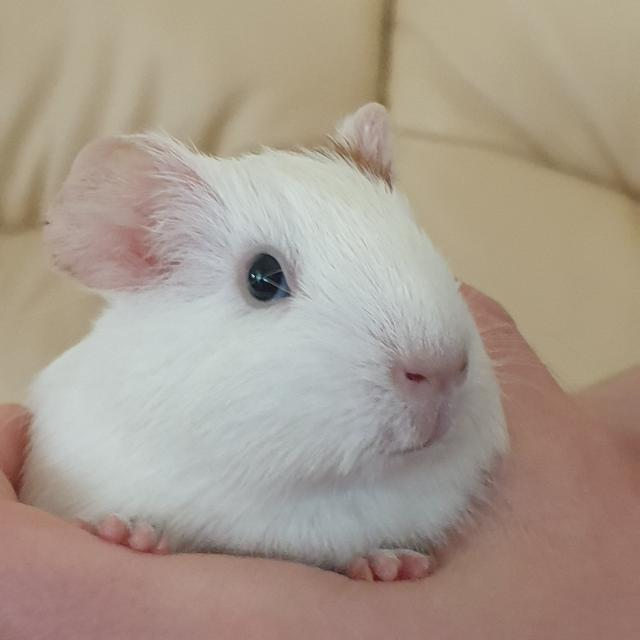guinea pig: (21, 98, 510, 585)
